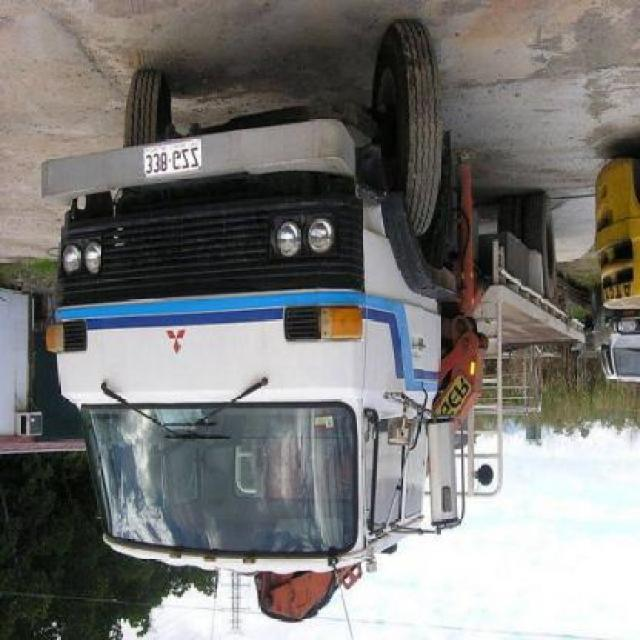truck: (40, 22, 587, 626)
